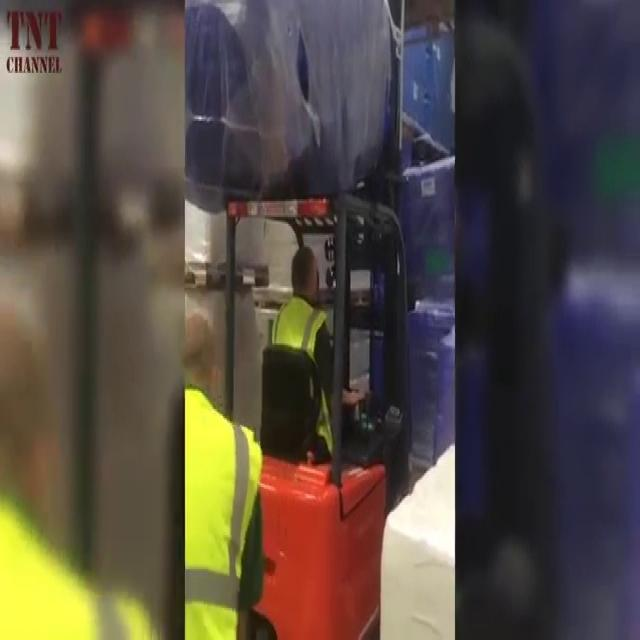Chariot elevateur: (218, 176, 416, 640)
